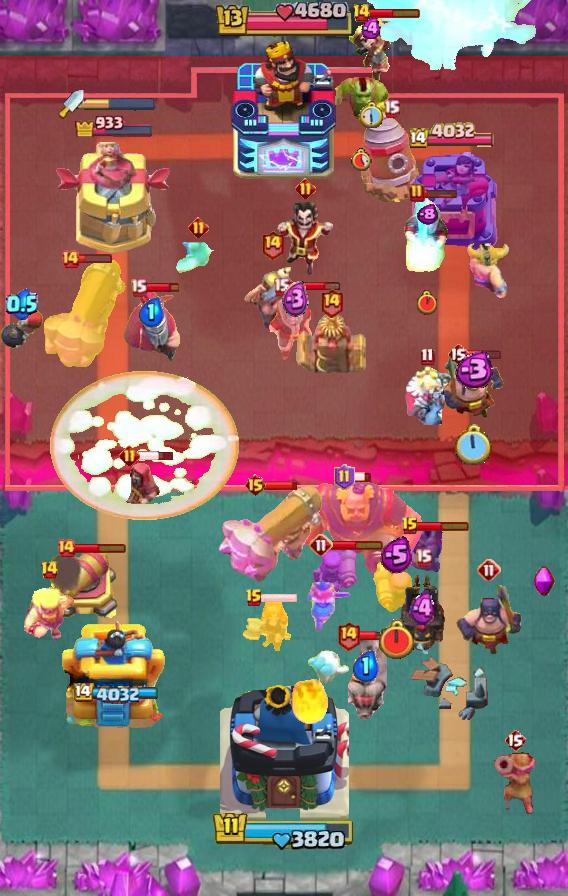bar: (74, 542, 127, 554), (331, 539, 384, 551), (417, 520, 470, 532), (368, 7, 421, 19), (288, 281, 341, 292), (145, 281, 180, 294), (261, 592, 298, 604), (138, 450, 175, 462), (358, 630, 393, 642), (467, 348, 502, 360), (77, 253, 113, 264), (423, 188, 458, 199), (264, 480, 298, 491), (352, 471, 372, 483)
bar-level: (336, 620, 361, 651), (319, 287, 344, 318), (260, 229, 285, 260), (477, 558, 501, 582), (309, 533, 333, 557), (244, 473, 267, 497), (334, 464, 355, 490), (504, 728, 526, 752), (447, 342, 469, 366), (119, 445, 140, 466), (188, 217, 209, 238), (295, 178, 316, 199), (56, 538, 76, 558), (60, 249, 80, 269), (40, 560, 59, 580), (352, 3, 371, 23), (245, 588, 263, 608), (401, 516, 419, 536), (415, 548, 432, 567), (130, 278, 147, 297), (273, 277, 290, 296), (383, 99, 400, 118), (409, 183, 425, 203), (420, 347, 435, 366)
barbarian-evolution: (22, 585, 76, 643)
bat-evolution: (172, 239, 224, 275)
bomber: (0, 308, 44, 350)
clock: (453, 424, 492, 468), (377, 619, 416, 661), (359, 101, 385, 129), (350, 148, 372, 171), (417, 290, 437, 315)
dagger-duchess-tower: (55, 142, 173, 256)
dagger-duchess-tower-bar: (84, 97, 156, 111)
electro-wizard: (274, 202, 336, 278)
elite-barbarian: (467, 242, 511, 298)
elixir: (450, 351, 495, 388), (380, 536, 413, 574), (409, 590, 437, 627), (6, 288, 38, 320), (282, 281, 309, 318), (352, 650, 379, 682), (138, 297, 164, 327), (361, 18, 383, 39), (417, 204, 438, 225)
evolution-symbol: (533, 565, 555, 599)
executioner: (455, 579, 523, 657), (438, 351, 506, 421)
firecracker: (311, 543, 358, 601), (373, 562, 419, 618)
goblin-brawler: (331, 73, 391, 127), (401, 522, 445, 574)
ice-spirit: (305, 649, 351, 683)
ice-wizard: (264, 291, 326, 363), (402, 197, 452, 273)
king-tower: (220, 678, 349, 826), (230, 41, 338, 181)
king-tower-bar: (212, 810, 356, 852), (213, 2, 355, 40)
little-prince: (348, 16, 396, 84)
miner: (243, 265, 301, 333)
musketeer: (494, 746, 536, 816)
queen-tower: (60, 617, 168, 731), (408, 152, 498, 256)
ram-rider: (343, 636, 387, 722)
royal-ghost: (400, 363, 454, 425)
tesla: (296, 308, 366, 376)
tower-bar: (409, 122, 497, 151), (74, 112, 155, 137), (71, 683, 158, 705)
valkyrie: (240, 600, 292, 652), (305, 580, 353, 634)
wizard: (126, 461, 162, 507)
